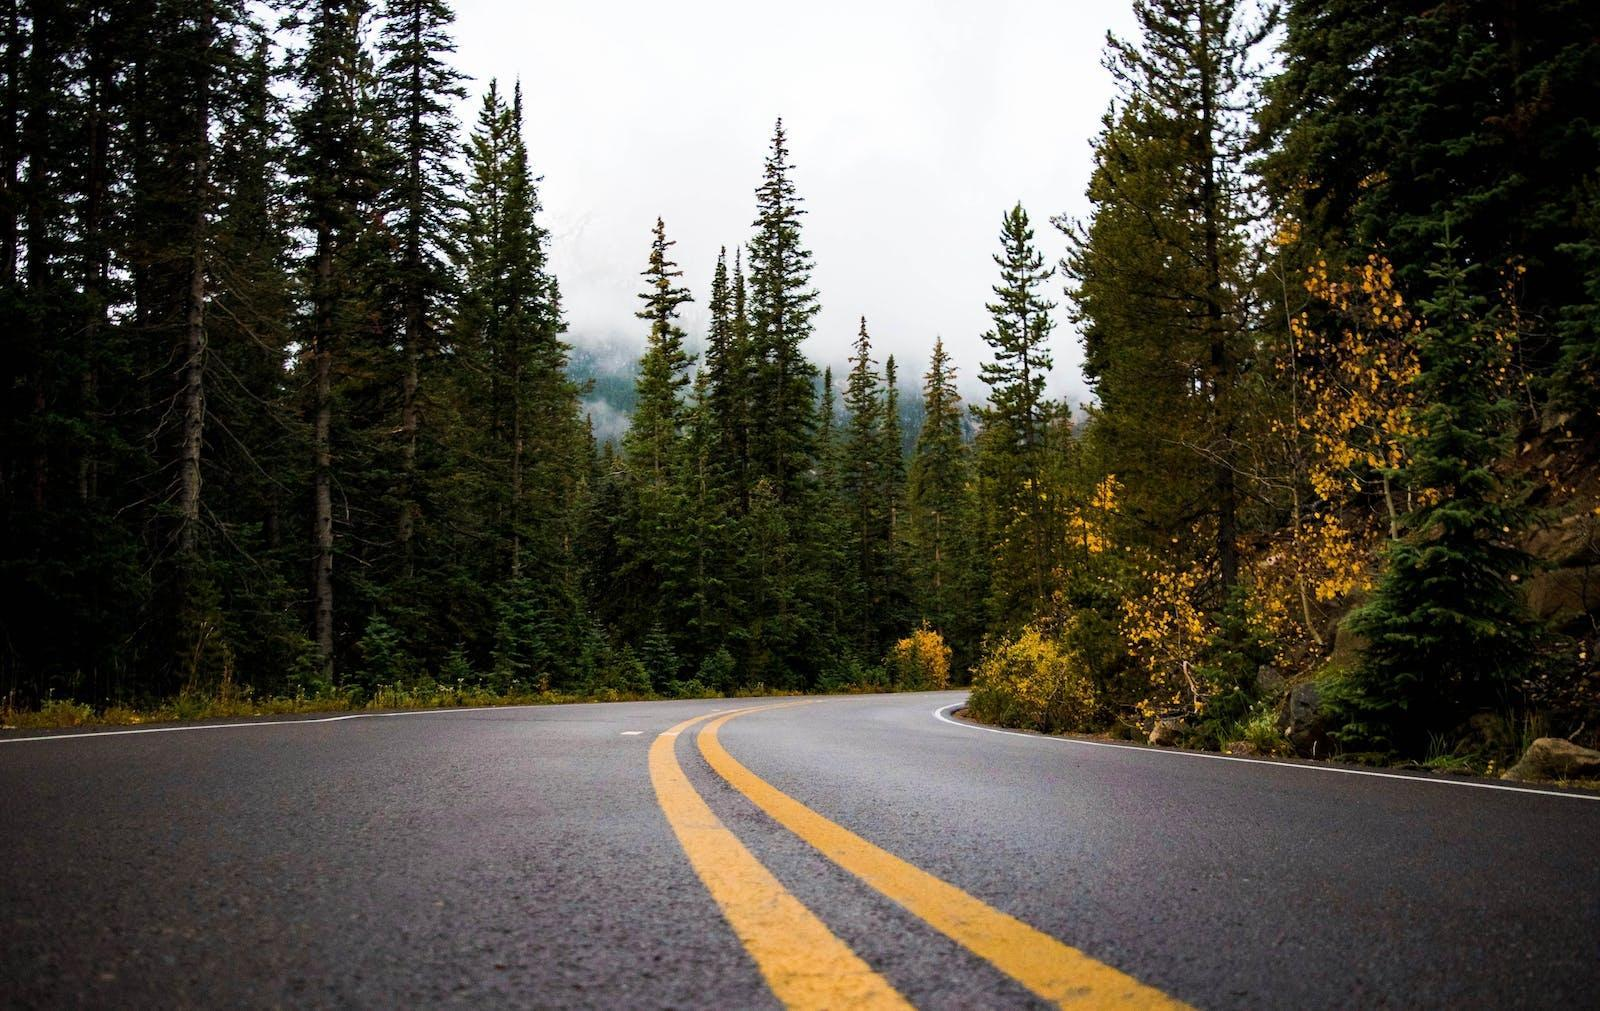road: (10, 690, 1599, 1009)
